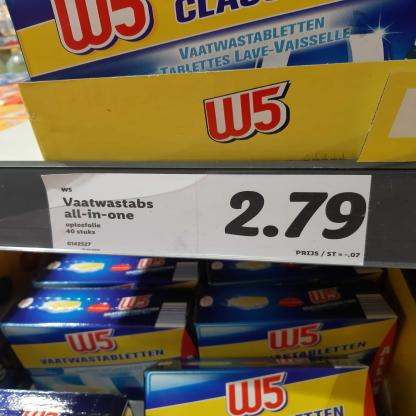prtg: (42, 174, 372, 266)
